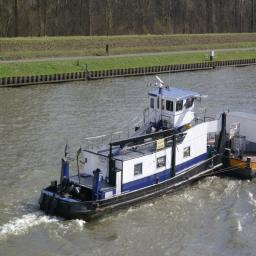tugboat: (38, 76, 230, 227)
